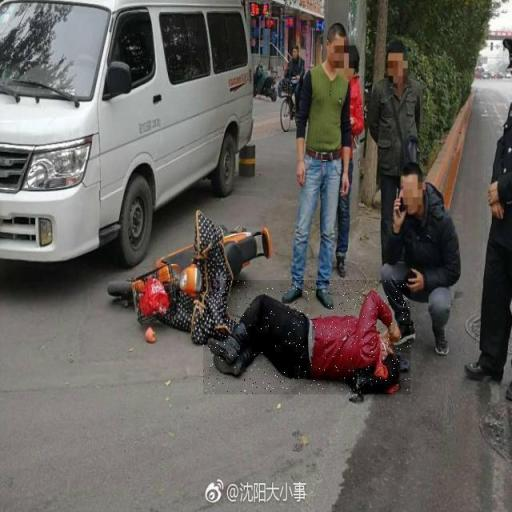Fall: (204, 280, 411, 394)
